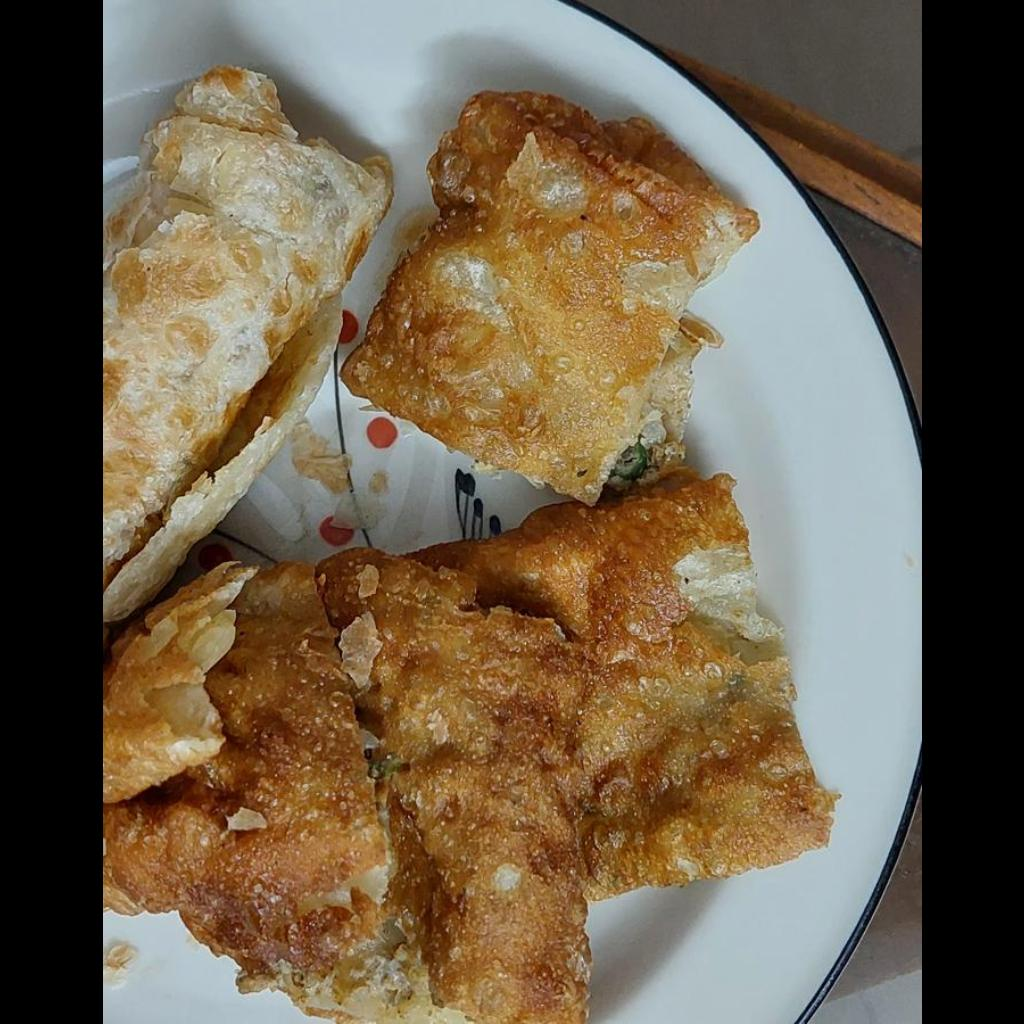puri: (102, 95, 842, 1018)
ruti: (102, 59, 392, 623)
